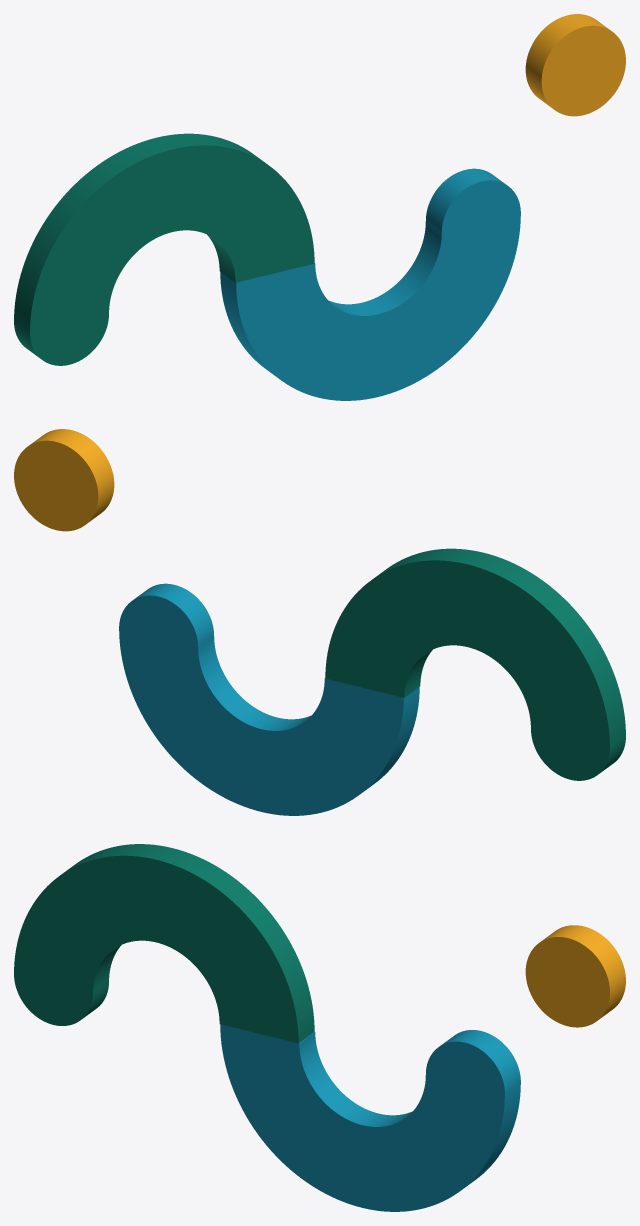
Rendered from tilo-symbol.glb.
3 renders of one model, top to bottom at view 1: azimuth 30°, elevation 25°; view 2: azimuth 150°, elevation 25°; view 3: azimuth 330°, elevation 25°, orthographic.
Parts seen in each view (by area): view 1: arc-left, arc-right, dot; view 2: arc-left, arc-right, dot; view 3: arc-left, arc-right, dot.
Boxes of the visible parts, left/top/right/bottom form: arc-left: left=14, top=133, right=314, bottom=365; arc-right: left=220, top=168, right=520, bottom=400; dot: left=525, top=14, right=625, bottom=116; arc-left: left=325, top=548, right=625, bottom=780; arc-right: left=119, top=583, right=419, bottom=815; dot: left=14, top=429, right=114, bottom=531; arc-left: left=14, top=844, right=314, bottom=1043; arc-right: left=220, top=1024, right=520, bottom=1211; dot: left=525, top=925, right=625, bottom=1027.
Size of the model in its own units: 4.52 by 2.32 by 0.21.
